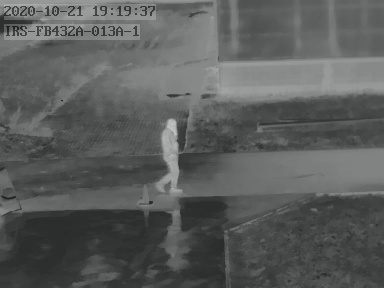person: (155, 118, 184, 195)
